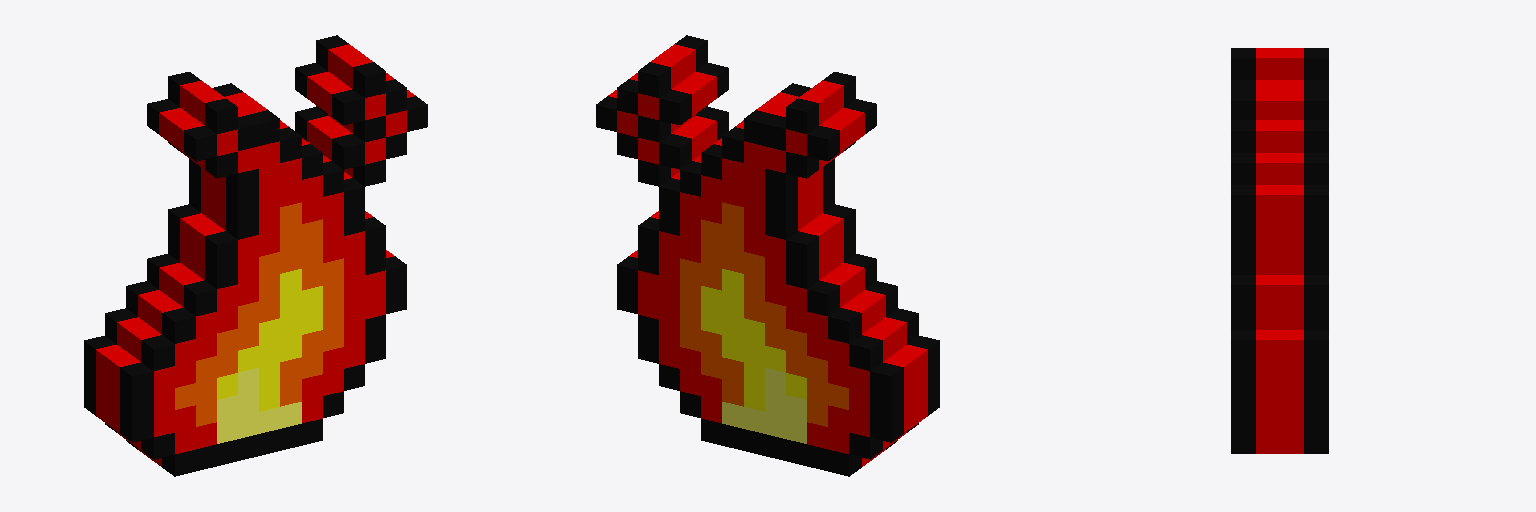
3 views of the same model, side by side, from view 1: azimuth 30°, elevation 25°; view 2: azimuth 150°, elevation 25°; view 3: azimuth 270°, elevation 25° (orthographic).
Visible parts, largest first — view 1: object 1; view 2: object 1; view 3: object 1.
Part boxes in pixels (bbox=[...]): object 1: bbox=[84, 35, 427, 476]; object 1: bbox=[596, 35, 939, 476]; object 1: bbox=[1231, 48, 1328, 453].
Bounding box in the file's own units: 1.4 × 1.6 × 0.4.
1 materials, 1 textured.